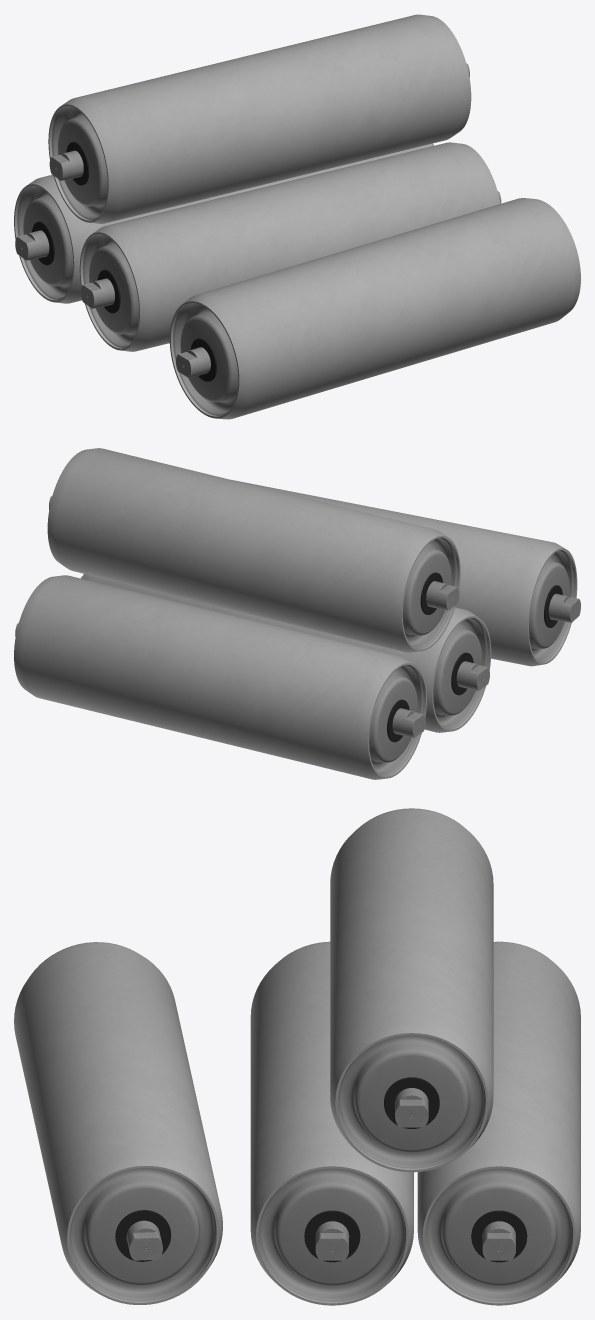
File: Barrel.gltf
3 views of the same model, one above another, from view 1: azimuth 30°, elevation 25°; view 2: azimuth 150°, elevation 25°; view 3: azimuth 270°, elevation 25° (orthographic). The views are drawn at different scales.
Visible parts, largest first — view 1: Cylinder.005_Cylinder.006; view 2: Cylinder.005_Cylinder.006; view 3: Cylinder.005_Cylinder.006.
Part boxes in pixels (<box>): Cylinder.005_Cylinder.006: <box>14,14,580,419</box>; Cylinder.005_Cylinder.006: <box>14,448,580,779</box>; Cylinder.005_Cylinder.006: <box>14,808,580,1305</box>.
Size of the model in its own units: 15.03 by 7.83 by 14.26.
1 material, 1 textured.
